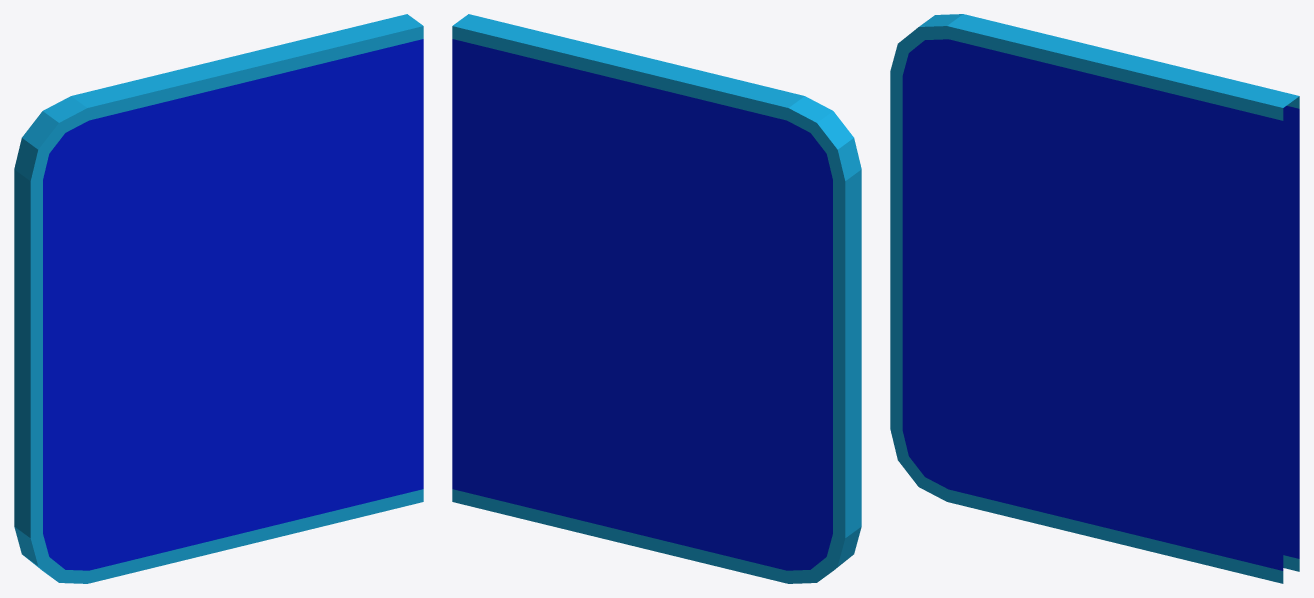
Rendered from EdgeWall2.fbx.
3 renders of one model, left to right at view 1: azimuth 30°, elevation 25°; view 2: azimuth 150°, elevation 25°; view 3: azimuth 330°, elevation 25°, orthographic.
Visible parts, largest first — view 1: Edge Wall; view 2: Edge Wall; view 3: Edge Wall.
Boxes of the visible parts, box(x1,y1,x2,y2) form: Edge Wall: box(14, 14, 423, 583); Edge Wall: box(452, 14, 861, 583); Edge Wall: box(890, 14, 1299, 583).
Size of the model in its own units: 482 by 557 by 34.88.
